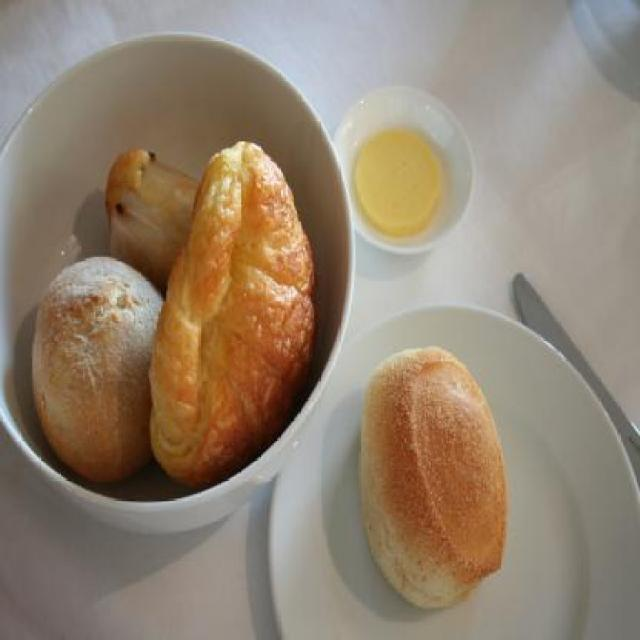Bread: (149, 141, 317, 487), (356, 340, 502, 616), (30, 258, 167, 486)
